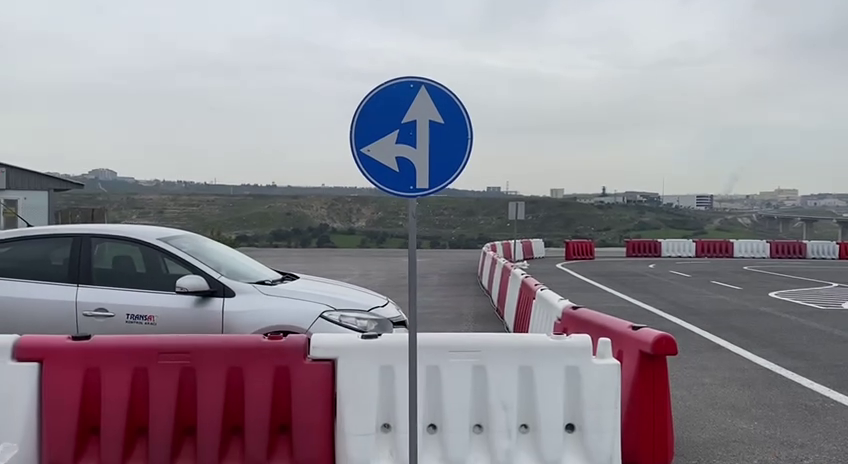forwardAndLeft: (346, 73, 475, 200)
